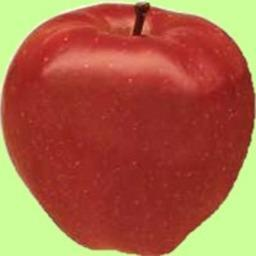apple: (0, 3, 254, 251)
